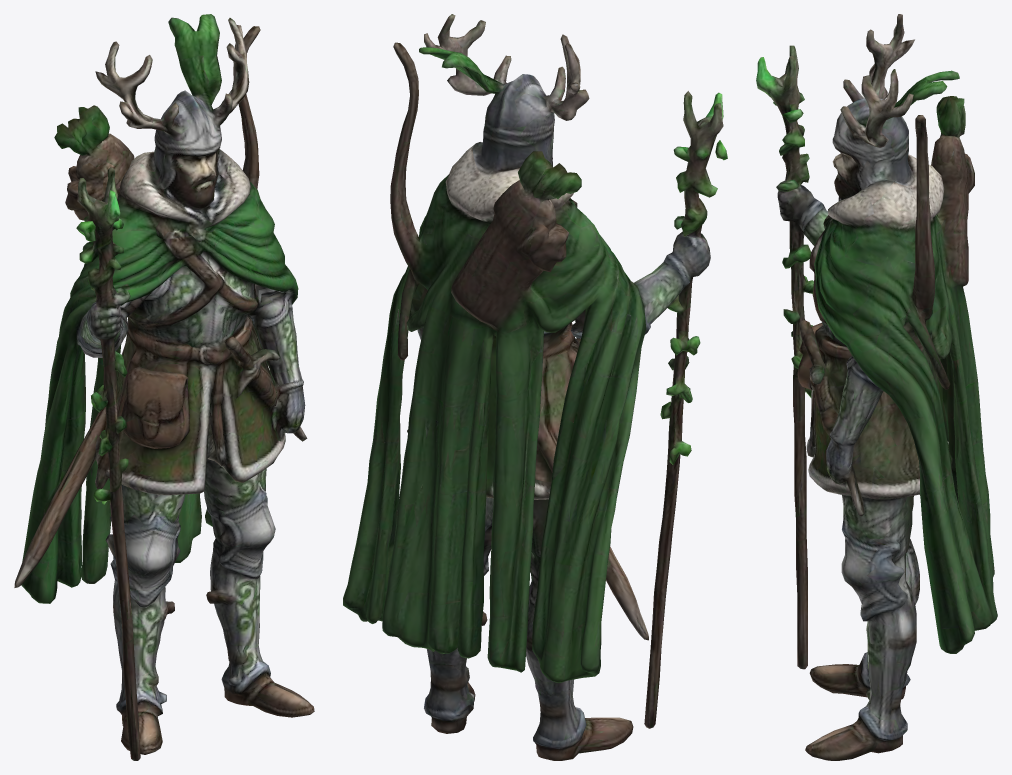
Rendered from Druid_Ranger.glb.
3 renders of one model, left to right at view 1: azimuth 30°, elevation 25°; view 2: azimuth 150°, elevation 25°; view 3: azimuth 270°, elevation 25°, orthographic. The views are drawn at different scales.
Bounding box in the file's own units: 0.7945 × 1.91 × 0.6184.
Materials: 1 (1 with a texture image).
